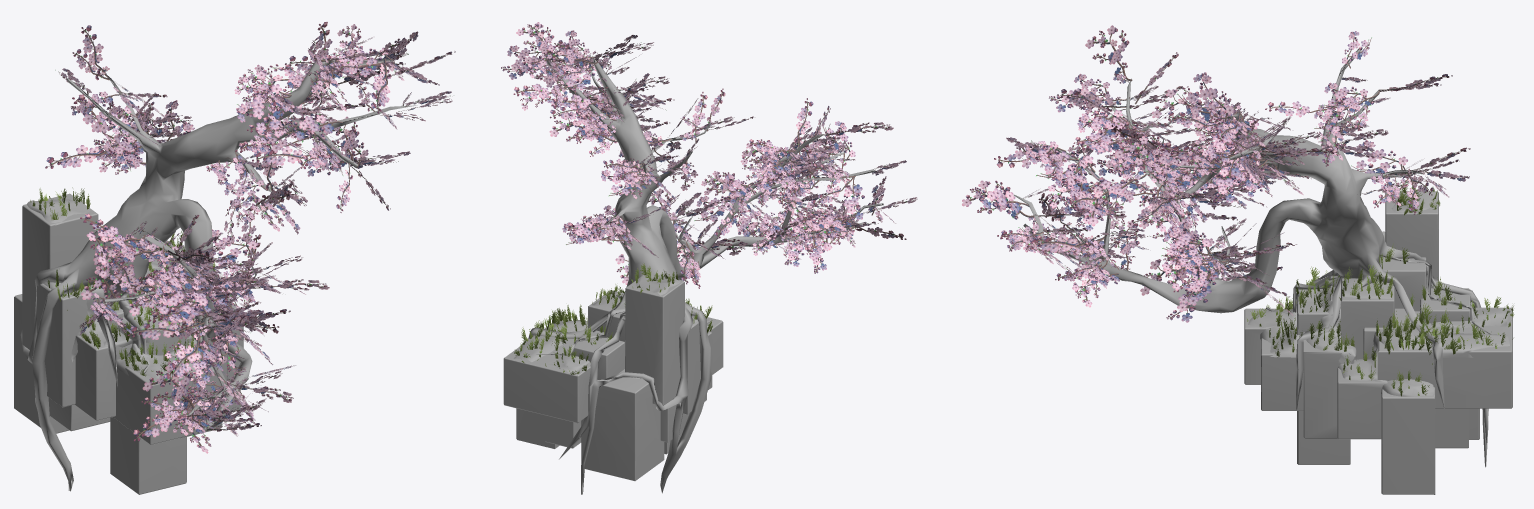
File: LowHangingFloatingTree.fbx
The picture shows the model from 3 angles, left to right: view 1: azimuth 30°, elevation 25°; view 2: azimuth 150°, elevation 25°; view 3: azimuth 270°, elevation 25°; orthographic projection. The views are drawn at different scales.
Visible parts, largest first — view 1: LowHangingFlowers, LowHangingFloatingRock, LowHangingTrunk, LowHangingGrassPatch, LowHangingGrass; view 2: LowHangingFlowers, LowHangingFloatingRock, LowHangingTrunk, LowHangingGrass, LowHangingGrassPatch; view 3: LowHangingFlowers, LowHangingFloatingRock, LowHangingTrunk, LowHangingGrassPatch, LowHangingGrass.
Boxes of the visible parts, <box> form: LowHangingFlowers: <box>45,22,455,453</box>; LowHangingFloatingRock: <box>14,193,243,494</box>; LowHangingTrunk: <box>20,58,417,491</box>; LowHangingGrassPatch: <box>26,199,229,378</box>; LowHangingGrass: <box>30,187,221,376</box>; LowHangingFlowers: <box>501,22,917,288</box>; LowHangingFloatingRock: <box>503,273,723,481</box>; LowHangingTrunk: <box>528,56,883,494</box>; LowHangingGrass: <box>514,263,712,374</box>; LowHangingGrassPatch: <box>514,275,709,372</box>; LowHangingFlowers: <box>962,25,1470,322</box>; LowHangingFloatingRock: <box>1244,191,1512,494</box>; LowHangingTrunk: <box>1013,47,1490,467</box>; LowHangingGrassPatch: <box>1248,191,1509,396</box>; LowHangingGrass: <box>1247,182,1514,396</box>.
Bounding box in the file's own units: 811 × 848 × 946.
